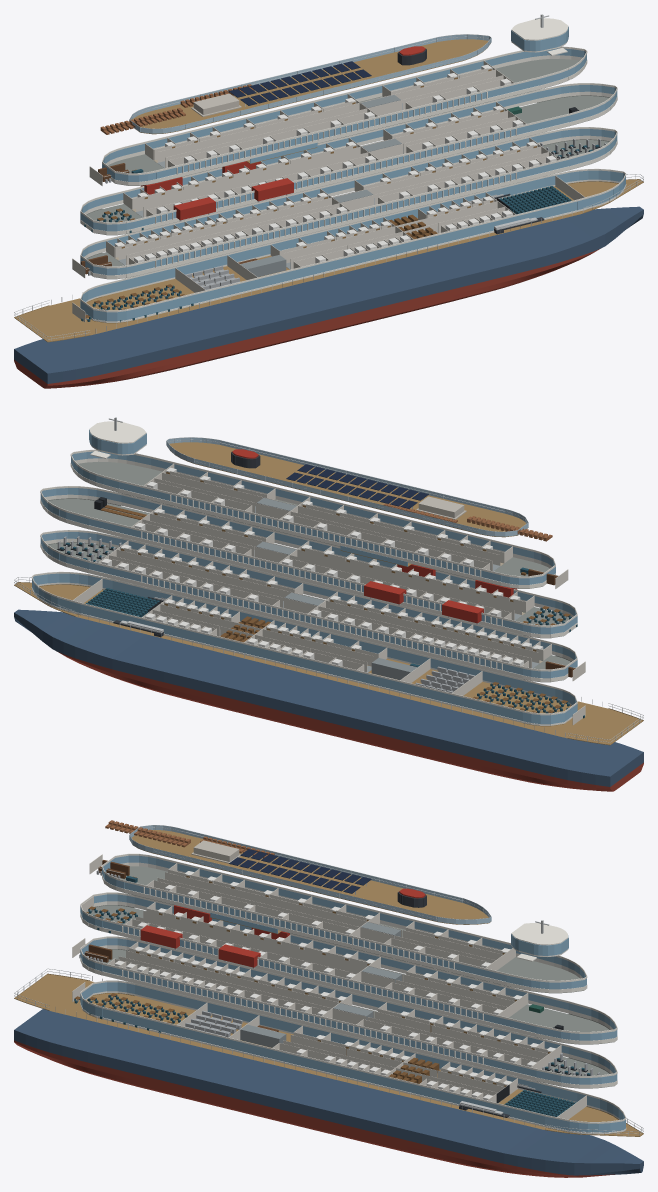
Rendered from vessel_exploded.glb.
The picture shows the model from 3 angles, top to bottom: view 1: azimuth 30°, elevation 25°; view 2: azimuth 150°, elevation 25°; view 3: azimuth 330°, elevation 25°; orthographic projection.
Visible parts, largest first — view 1: vessel_exploded (×19); view 2: vessel_exploded (×19); view 3: vessel_exploded (×21).
Part boxes in pixels (box(x1,y1,x2,y2)): vessel_exploded (×19): box(14, 14, 643, 388); vessel_exploded (×19): box(14, 417, 643, 791); vessel_exploded (×21): box(14, 820, 643, 1177).
Bounding box in the file's own units: 141 × 54.42 × 16.8.
